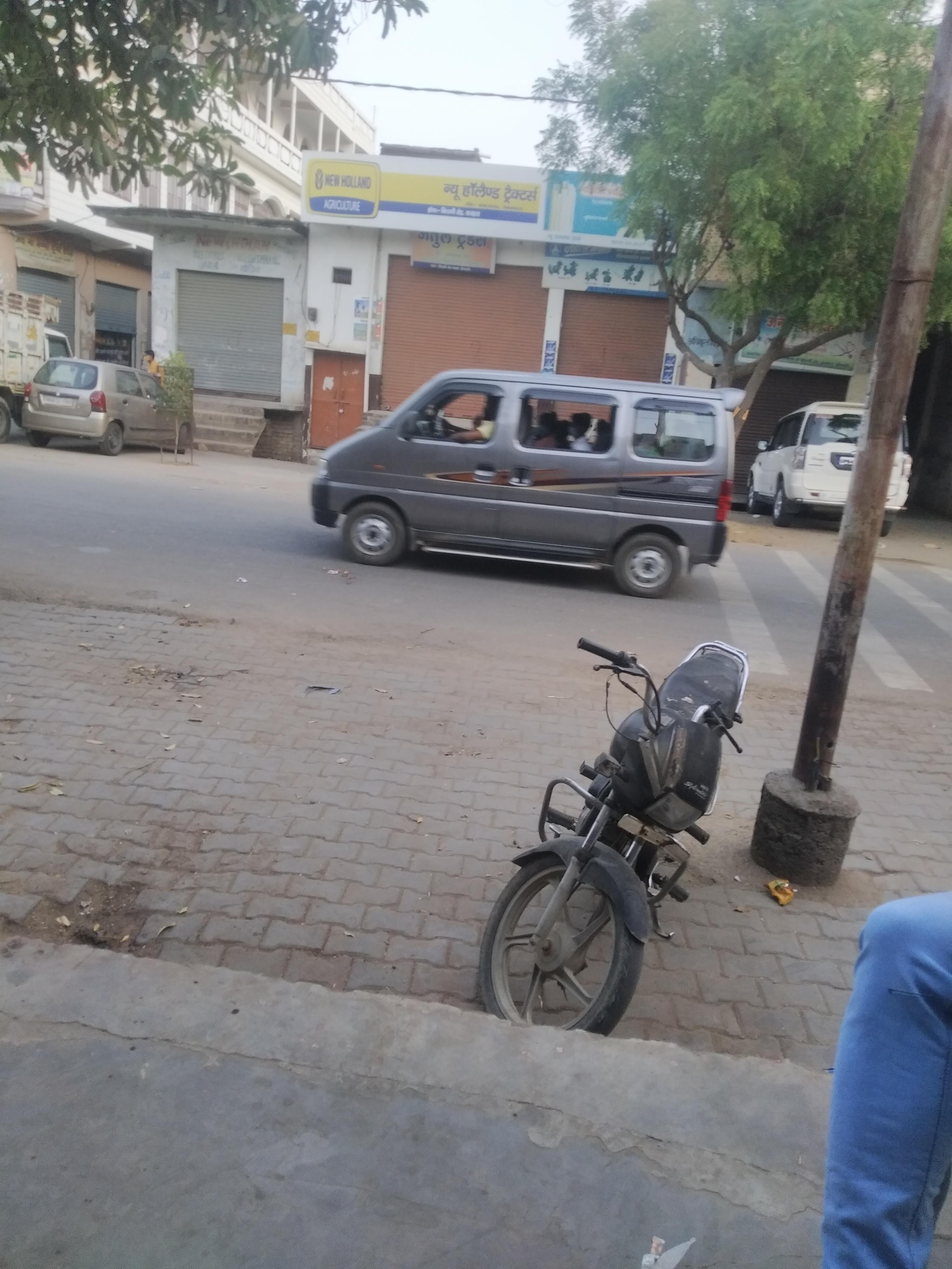Non-emergency: (261, 316, 762, 649)
